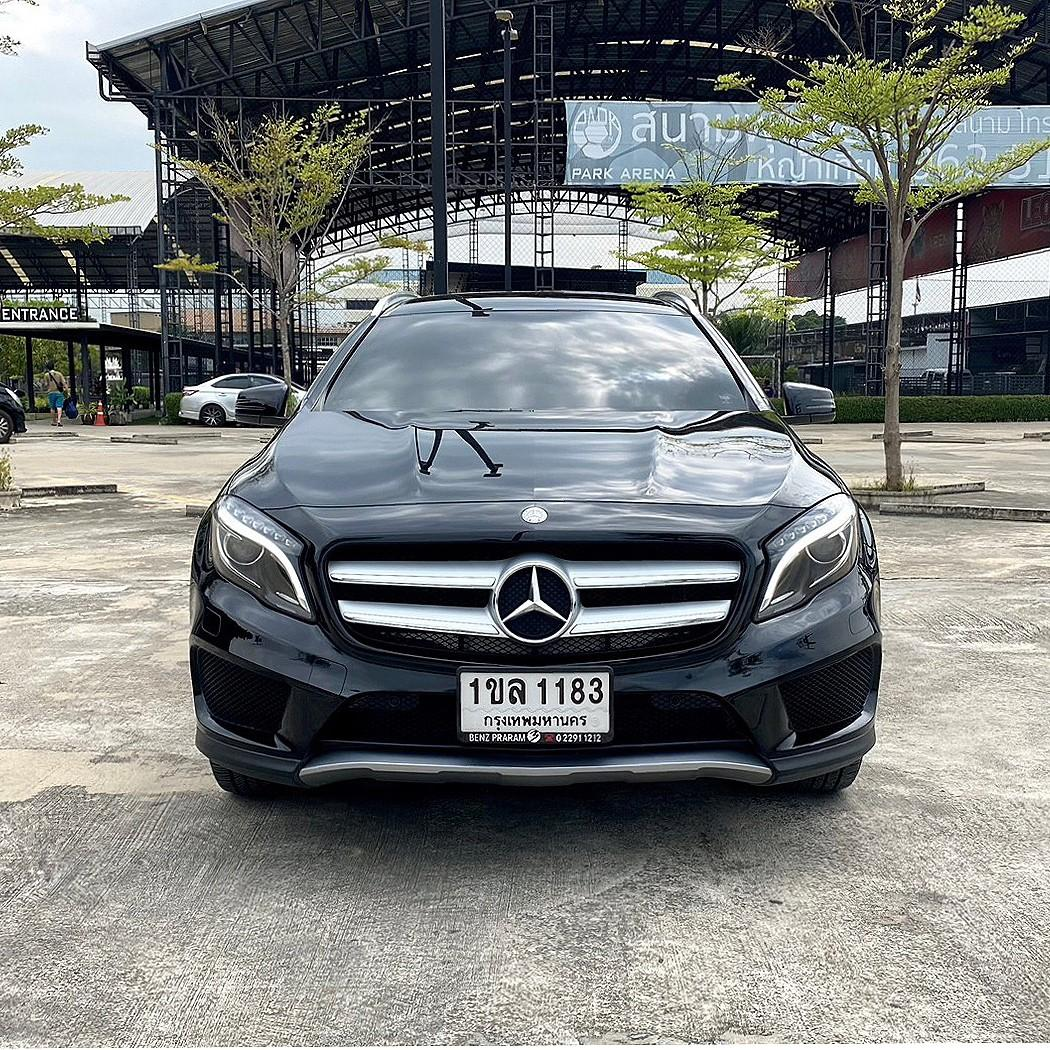license-plate: (456, 664, 620, 745)
